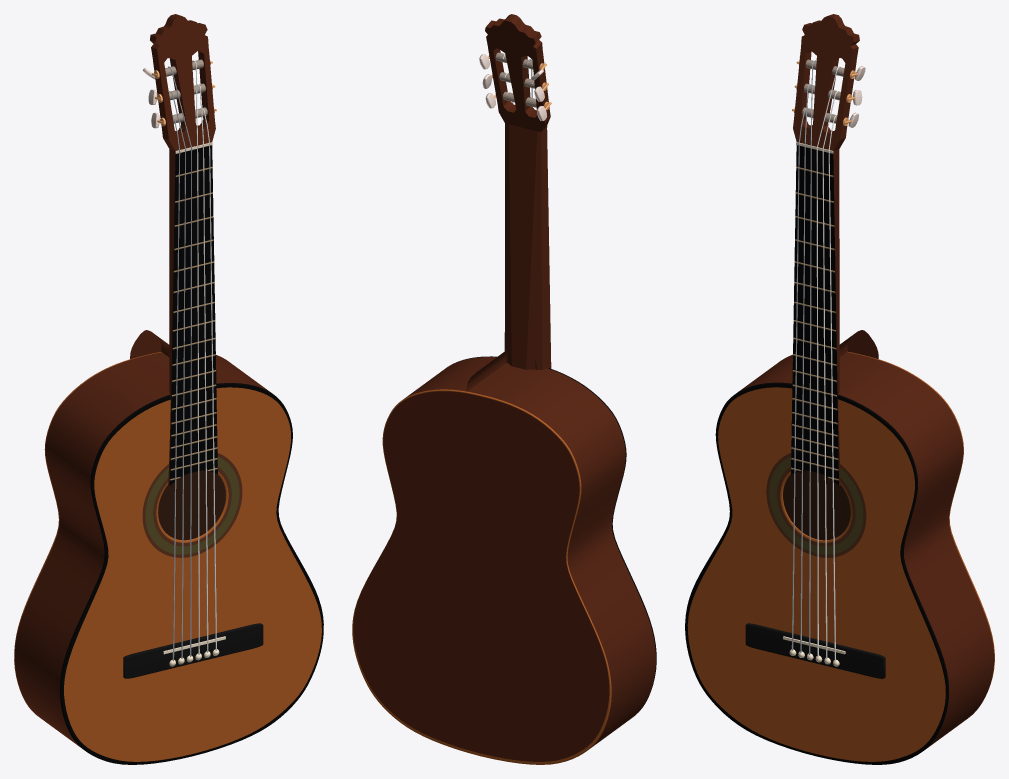
File: chitarrajoined.fbx
The picture shows the model from 3 angles, left to right: view 1: azimuth 30°, elevation 25°; view 2: azimuth 150°, elevation 25°; view 3: azimuth 330°, elevation 25°; orthographic projection.
Visible parts, largest first — view 1: Circle.001; view 2: Circle.001; view 3: Circle.001.
Part boxes in pixels (x1,y1,x2,y2): Circle.001: (14, 14, 323, 764); Circle.001: (352, 14, 656, 764); Circle.001: (685, 14, 994, 764).
Size of the model in its own units: 302 by 801 by 100.
